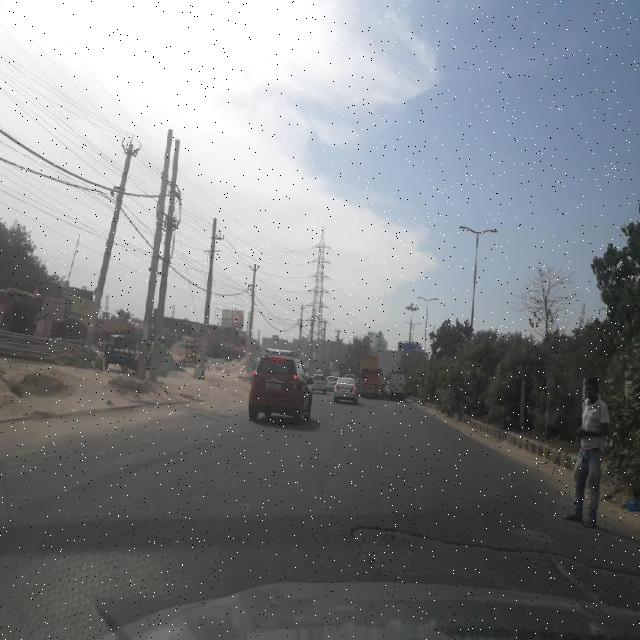D20: (34, 421, 322, 601)
D40: (337, 508, 639, 588)
